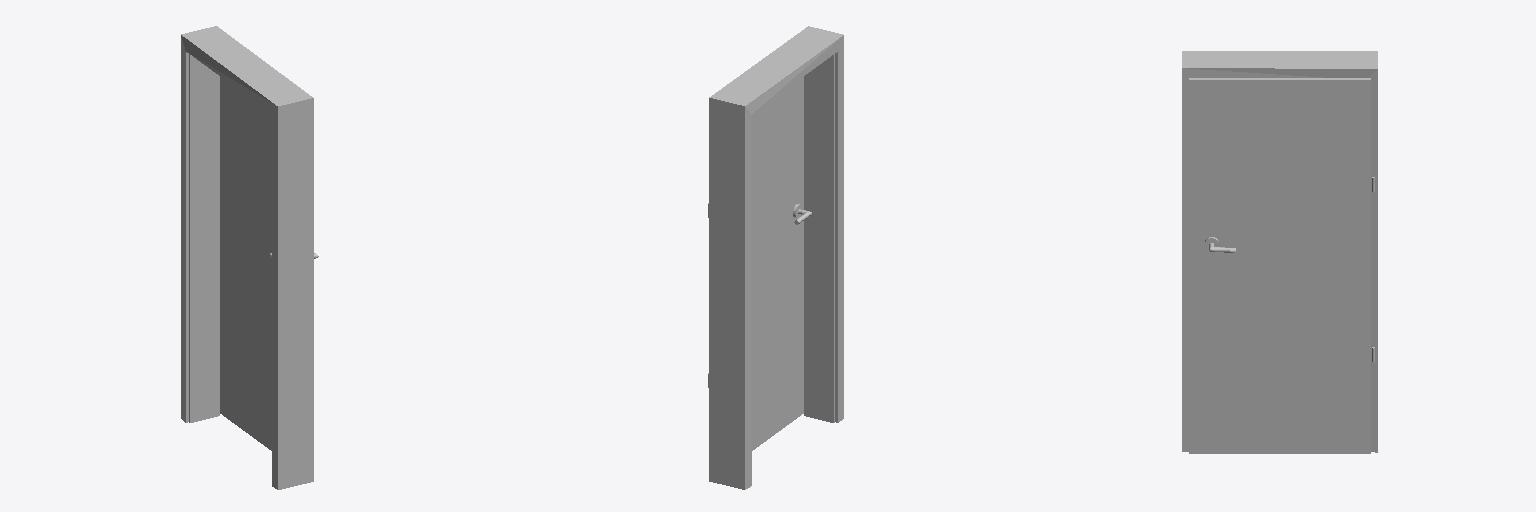
File: door14.obj
3 renders of one model, left to right at view 1: azimuth 30°, elevation 25°; view 2: azimuth 150°, elevation 25°; view 3: azimuth 270°, elevation 25°, orthographic.
Visible parts, largest first — view 1: Cylinder.005, Cylinder.001; view 2: Cylinder.005, Cylinder.001; view 3: Cylinder.001, Cylinder.005.
Boxes of the visible parts, <box> form: Cylinder.005: <box>181,26,313,489</box>; Cylinder.001: <box>220,77,271,450</box>; Cylinder.005: <box>708,26,843,489</box>; Cylinder.001: <box>708,77,803,450</box>; Cylinder.001: <box>1189,78,1374,453</box>; Cylinder.005: <box>1182,51,1377,452</box>.
Bounding box in the file's own units: 0.3039 × 2.05 × 0.95.